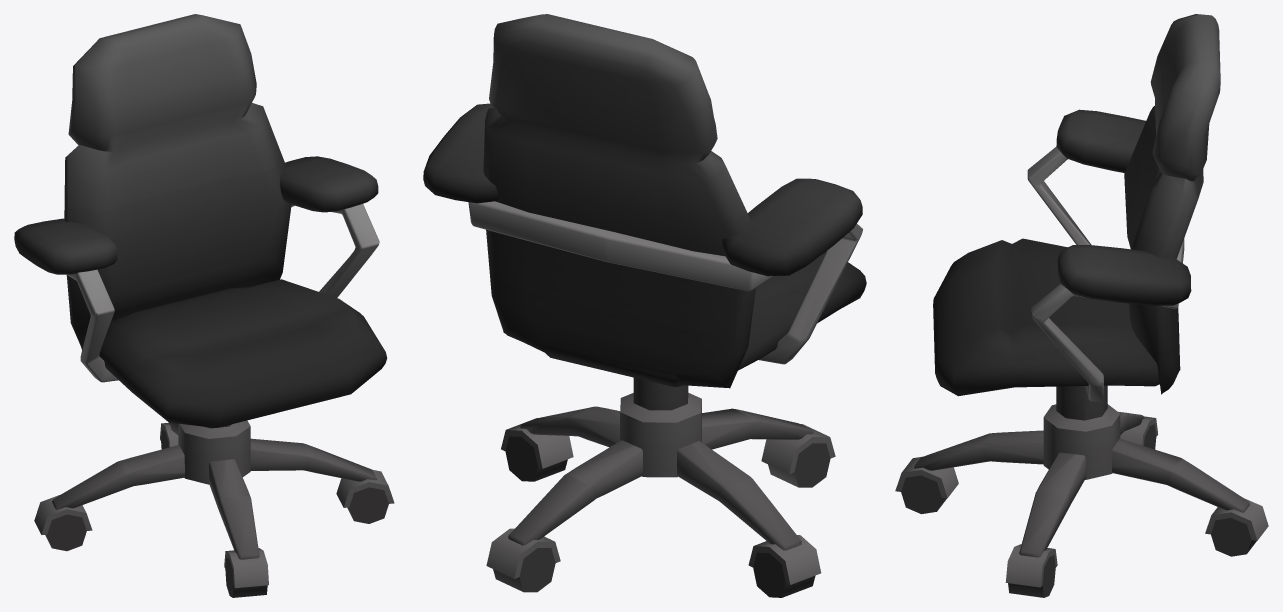
The model's file is SM_Computer Chair.fbx.
The picture shows the model from 3 angles, left to right: view 1: azimuth 30°, elevation 25°; view 2: azimuth 150°, elevation 25°; view 3: azimuth 270°, elevation 25°; orthographic projection. The views are drawn at different scales.
Parts seen in each view (by area): view 1: SM_Computer Chair; view 2: SM_Computer Chair; view 3: SM_Computer Chair.
Part boxes in pixels (x1,y1,x2,y2): SM_Computer Chair: (14,14,394,597); SM_Computer Chair: (423,14,866,597); SM_Computer Chair: (895,14,1268,597).
Bounding box in the file's own units: 0.7646 × 1.03 × 0.7129.
